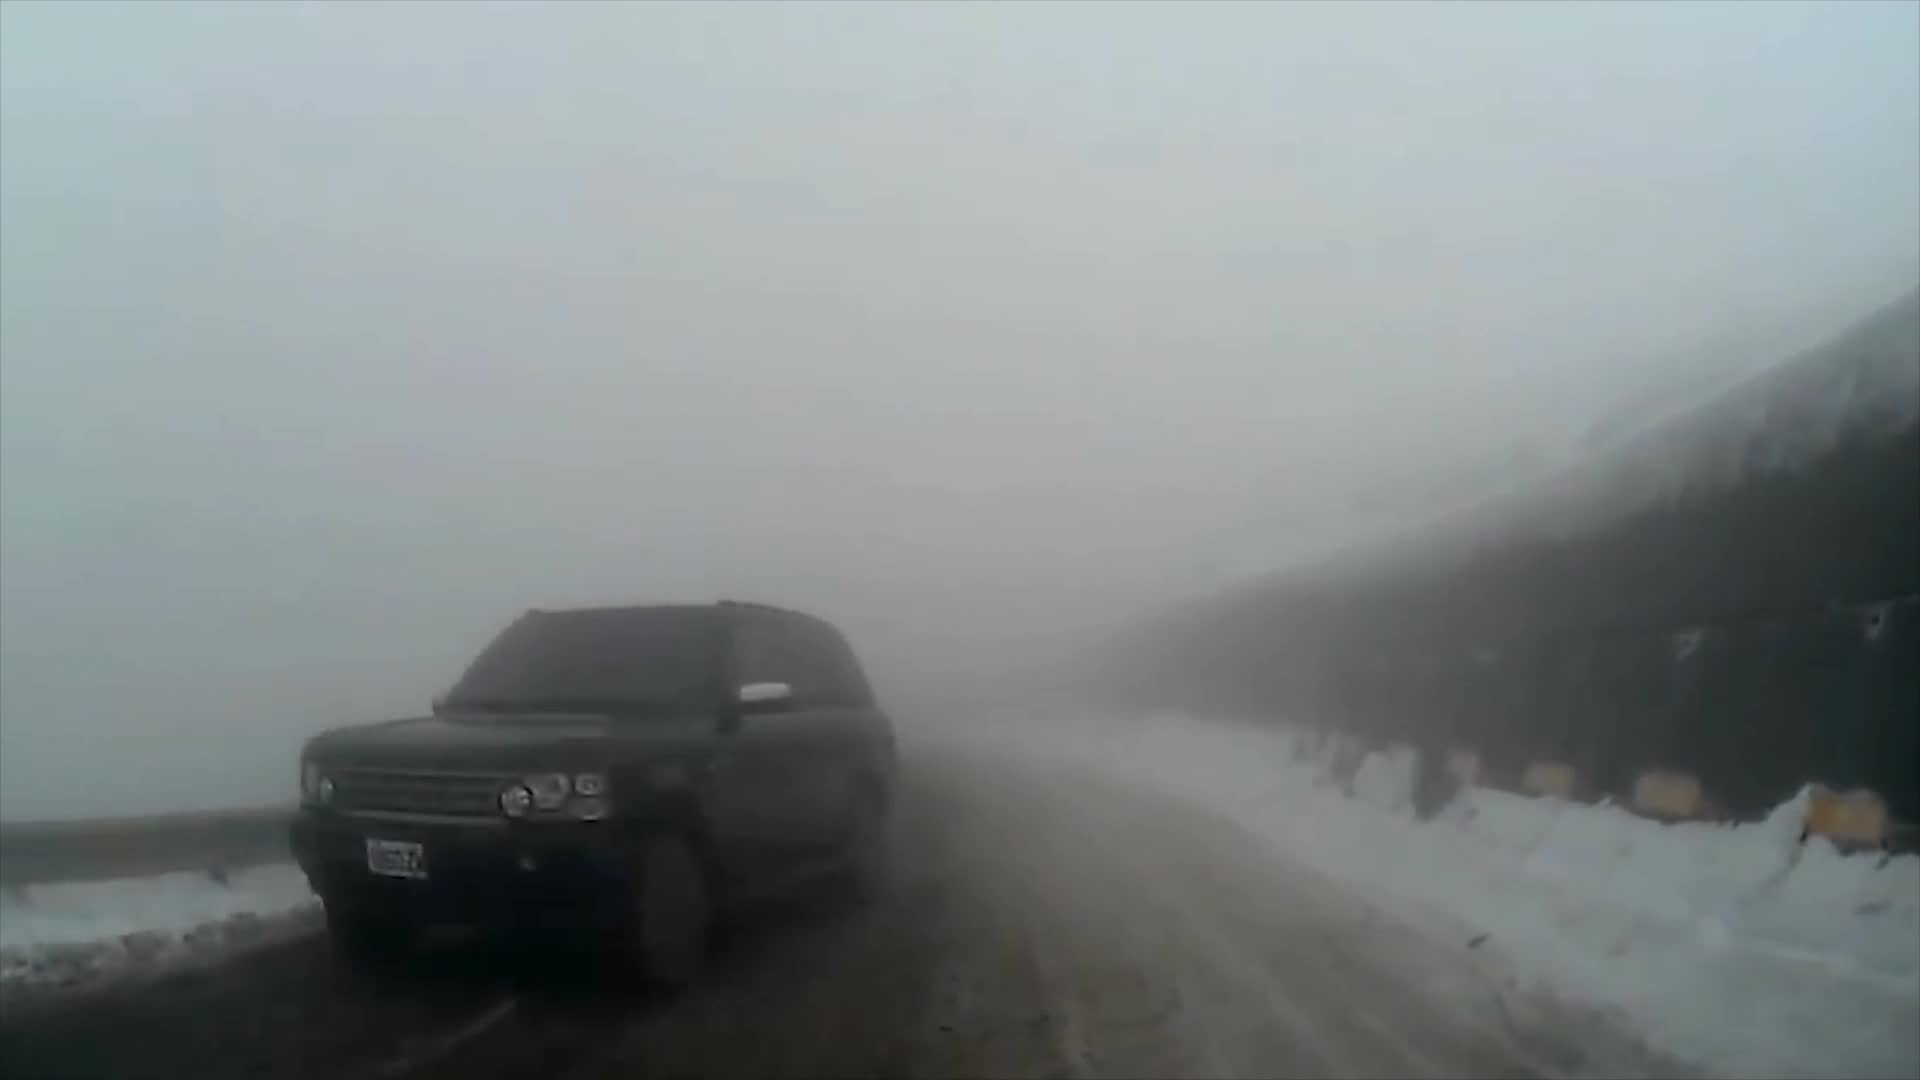vehicle: (285, 595, 903, 1000)
